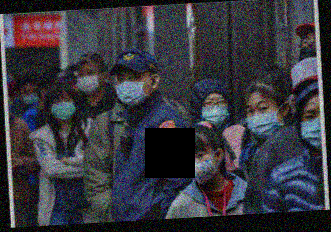with_mask: (243, 97, 282, 139), (115, 69, 151, 108), (181, 149, 217, 185), (298, 103, 321, 153), (198, 94, 229, 128), (75, 65, 102, 96), (48, 94, 77, 122), (294, 33, 316, 61), (19, 87, 39, 109)
